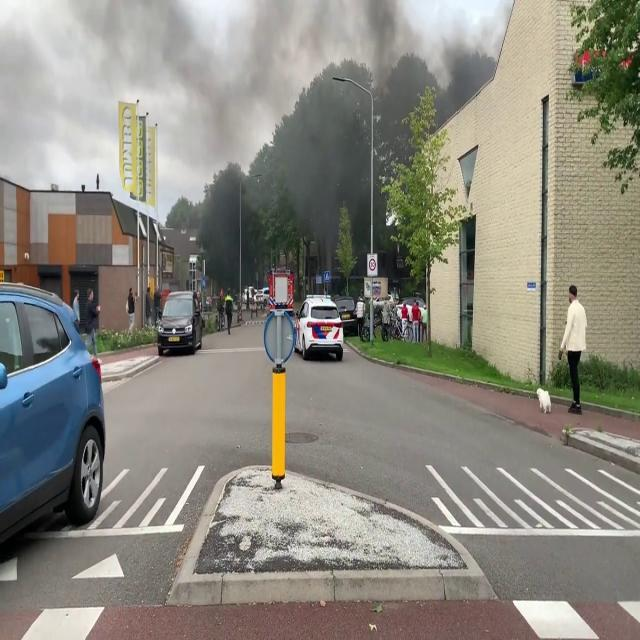Smoke: (184, 2, 396, 264), (431, 4, 496, 122)
